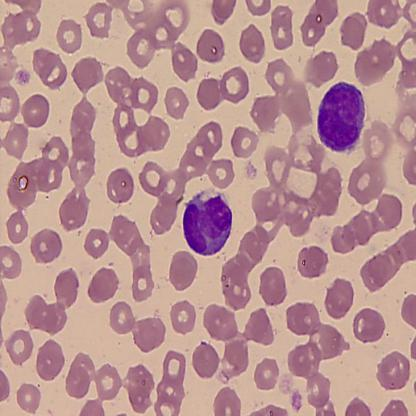Monocyte: (315, 79, 367, 154), (180, 188, 235, 258)
